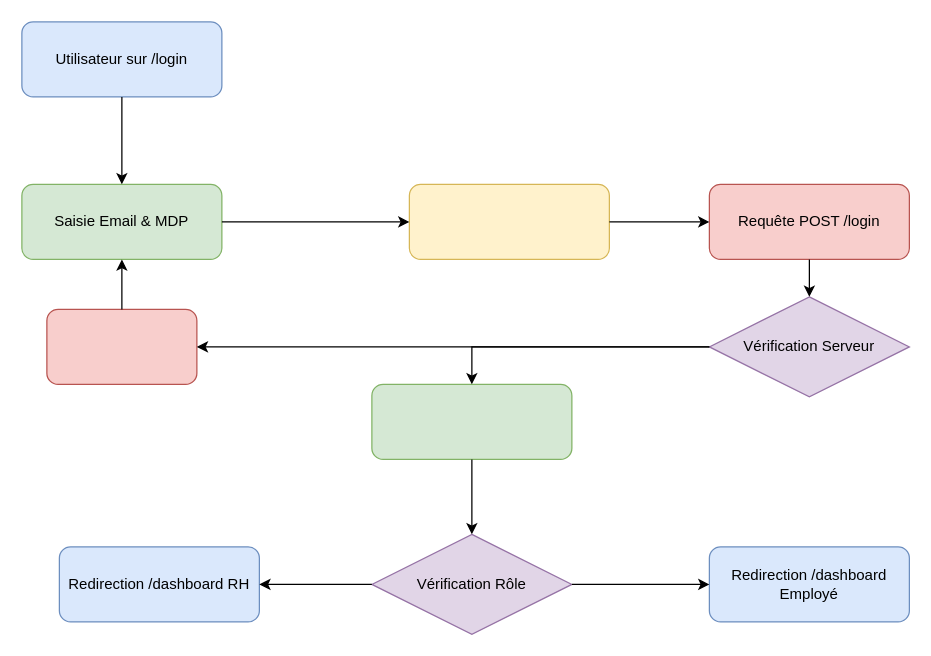
The diagram is 931 pixels wide and 656 high, and some of its shapes have lost their labels. The shapes that lost their labels are listed below. From the top down, each one's box as (x1, y1, x2, y2) in pixels, then its label:
(408, 183, 609, 259): Soumission
(46, 308, 197, 384): Erreur (Toast)
(371, 383, 572, 459): Succès (JWT reçu)
